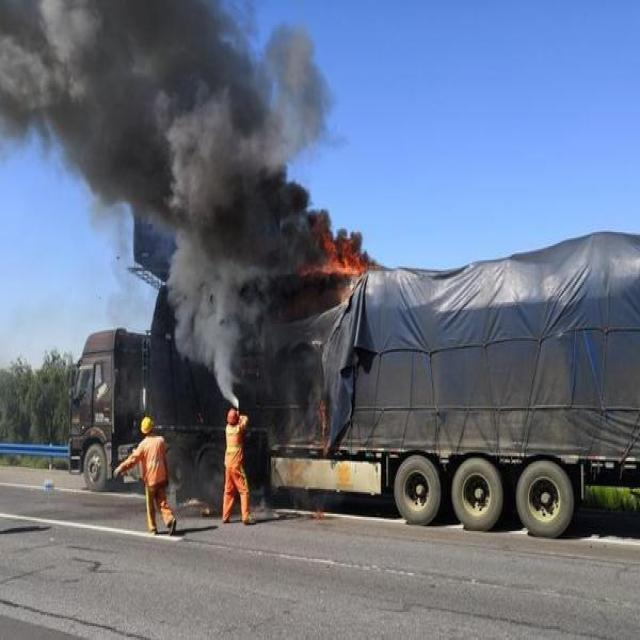Fire: (304, 217, 366, 274)
Smoke: (0, 0, 325, 409)
